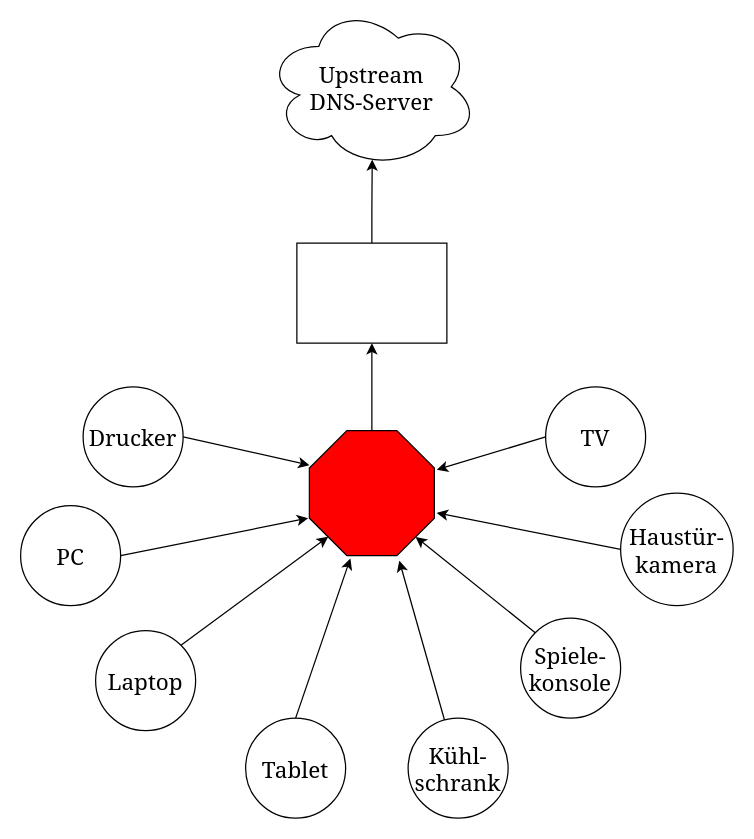
Some shapes in this 754 by 839 pixel diagram are drawn without their labels. The shapes that lost their labels are listed below. From the top down, each one's centre as x and y in pixels, then its label:
At (371,292): "DNS-Server auf dem Heimrouter".
At (371,492): "Pi-hole DNS-Server".
